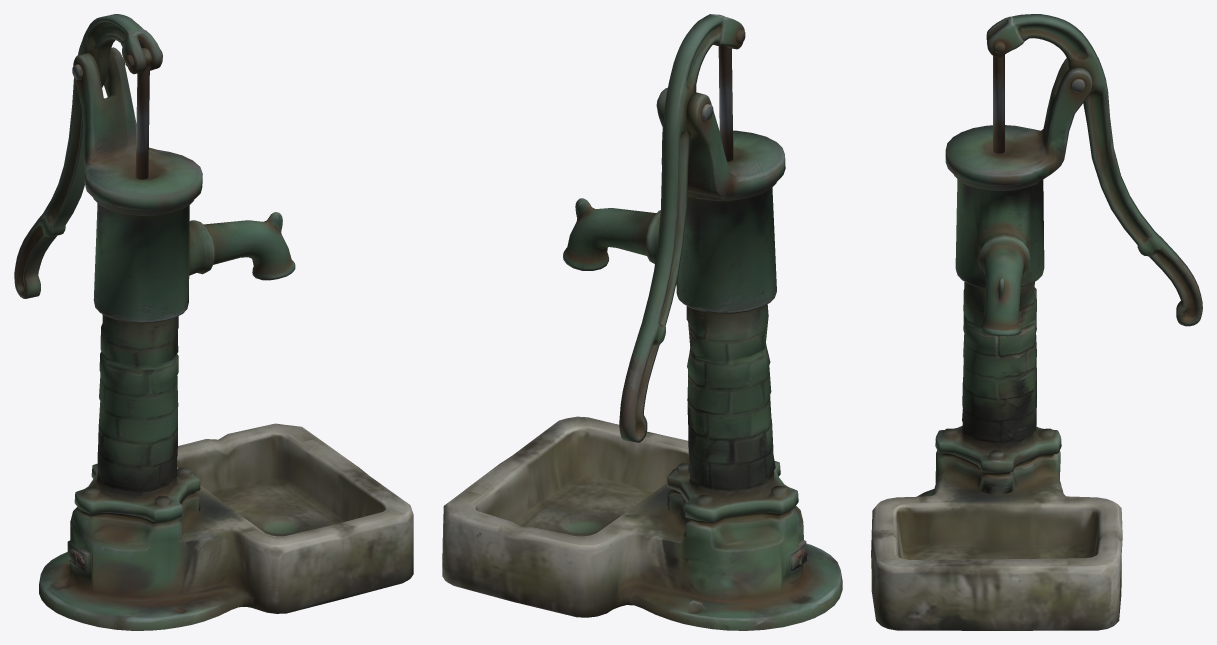
The model's file is SM_Env_SohoStreetPump.fbx.
3 renders of one model, left to right at view 1: azimuth 30°, elevation 25°; view 2: azimuth 150°, elevation 25°; view 3: azimuth 270°, elevation 25°, orthographic. The views are drawn at different scales.
Parts seen in each view (by area): view 1: SM_Env_SohoStreetPump; view 2: SM_Env_SohoStreetPump; view 3: SM_Env_SohoStreetPump.
Part boxes in pixels (left/top/right/bottom): SM_Env_SohoStreetPump: left=14, top=14, right=413, bottom=630; SM_Env_SohoStreetPump: left=442, top=14, right=842, bottom=630; SM_Env_SohoStreetPump: left=871, top=14, right=1202, bottom=630.
Bounding box in the file's own units: 26.58 × 26.23 × 45.
1 material, 1 textured.
